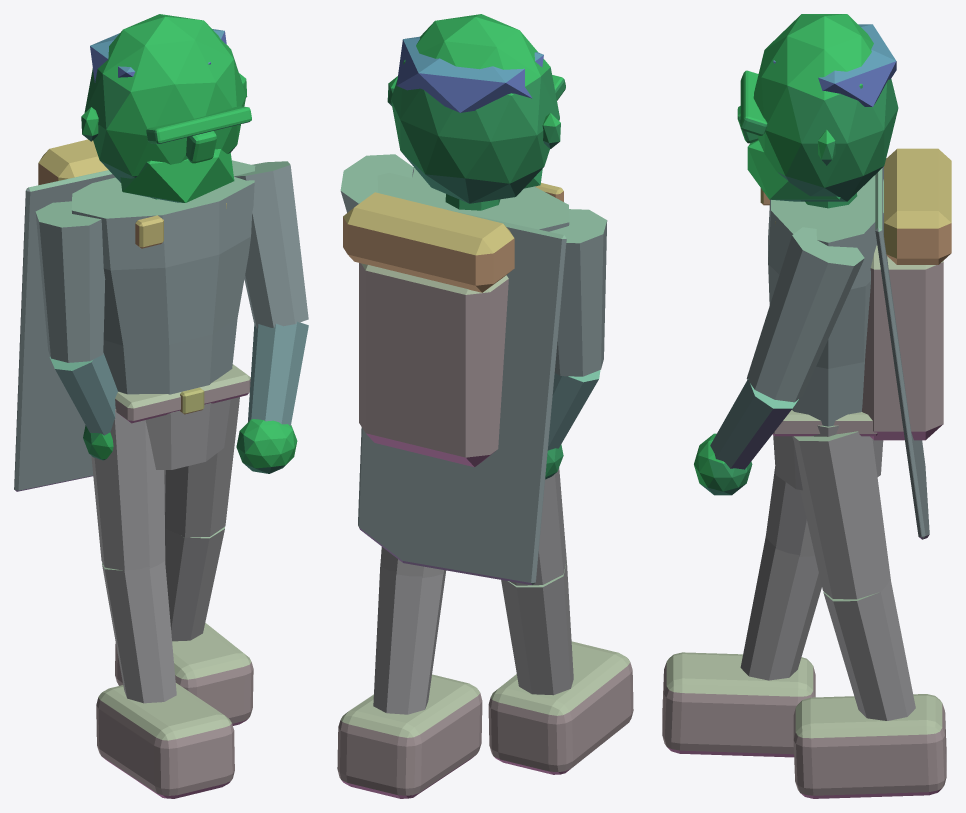
Rendered from npc_refugee_contact_l_v01.glb.
3 views of the same model, side by side, from view 1: azimuth 30°, elevation 25°; view 2: azimuth 150°, elevation 25°; view 3: azimuth 270°, elevation 25° (orthographic). The views are drawn at different scales.
Parts seen in each view (by area): view 1: GEO_npc_refugee_contact_l_v01; view 2: GEO_npc_refugee_contact_l_v01; view 3: GEO_npc_refugee_contact_l_v01.
Boxes of the visible parts, box(x1,y1,x2,y2) form: GEO_npc_refugee_contact_l_v01: box(14, 14, 308, 798); GEO_npc_refugee_contact_l_v01: box(337, 14, 633, 798); GEO_npc_refugee_contact_l_v01: box(662, 14, 951, 798).
Bounding box in the file's own units: 0.7519 × 2.08 × 0.7277.
